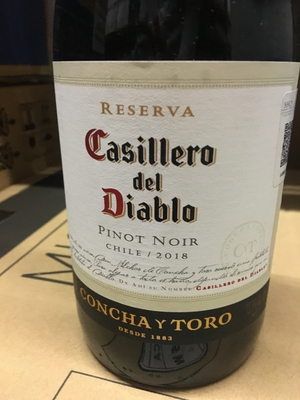casillero del diablo pinot noir: (46, 4, 298, 395)
